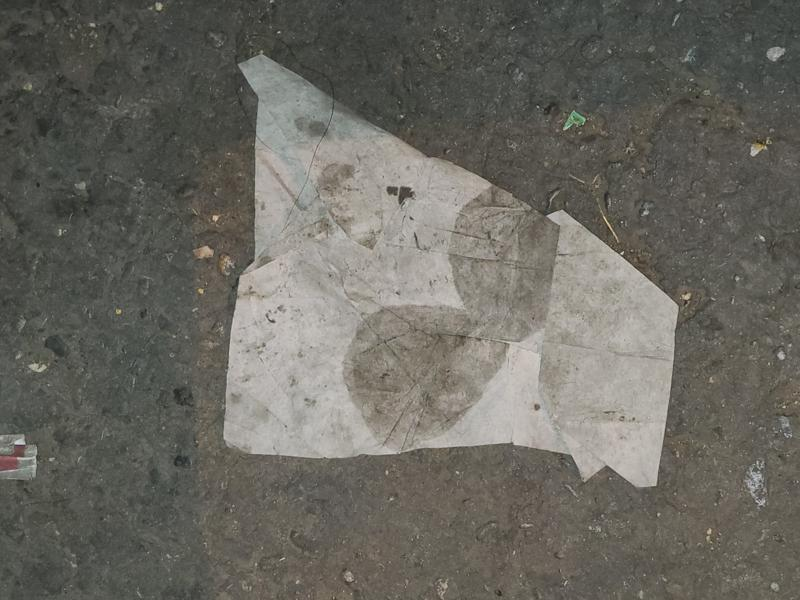papel: (218, 55, 679, 492), (219, 55, 680, 491)
